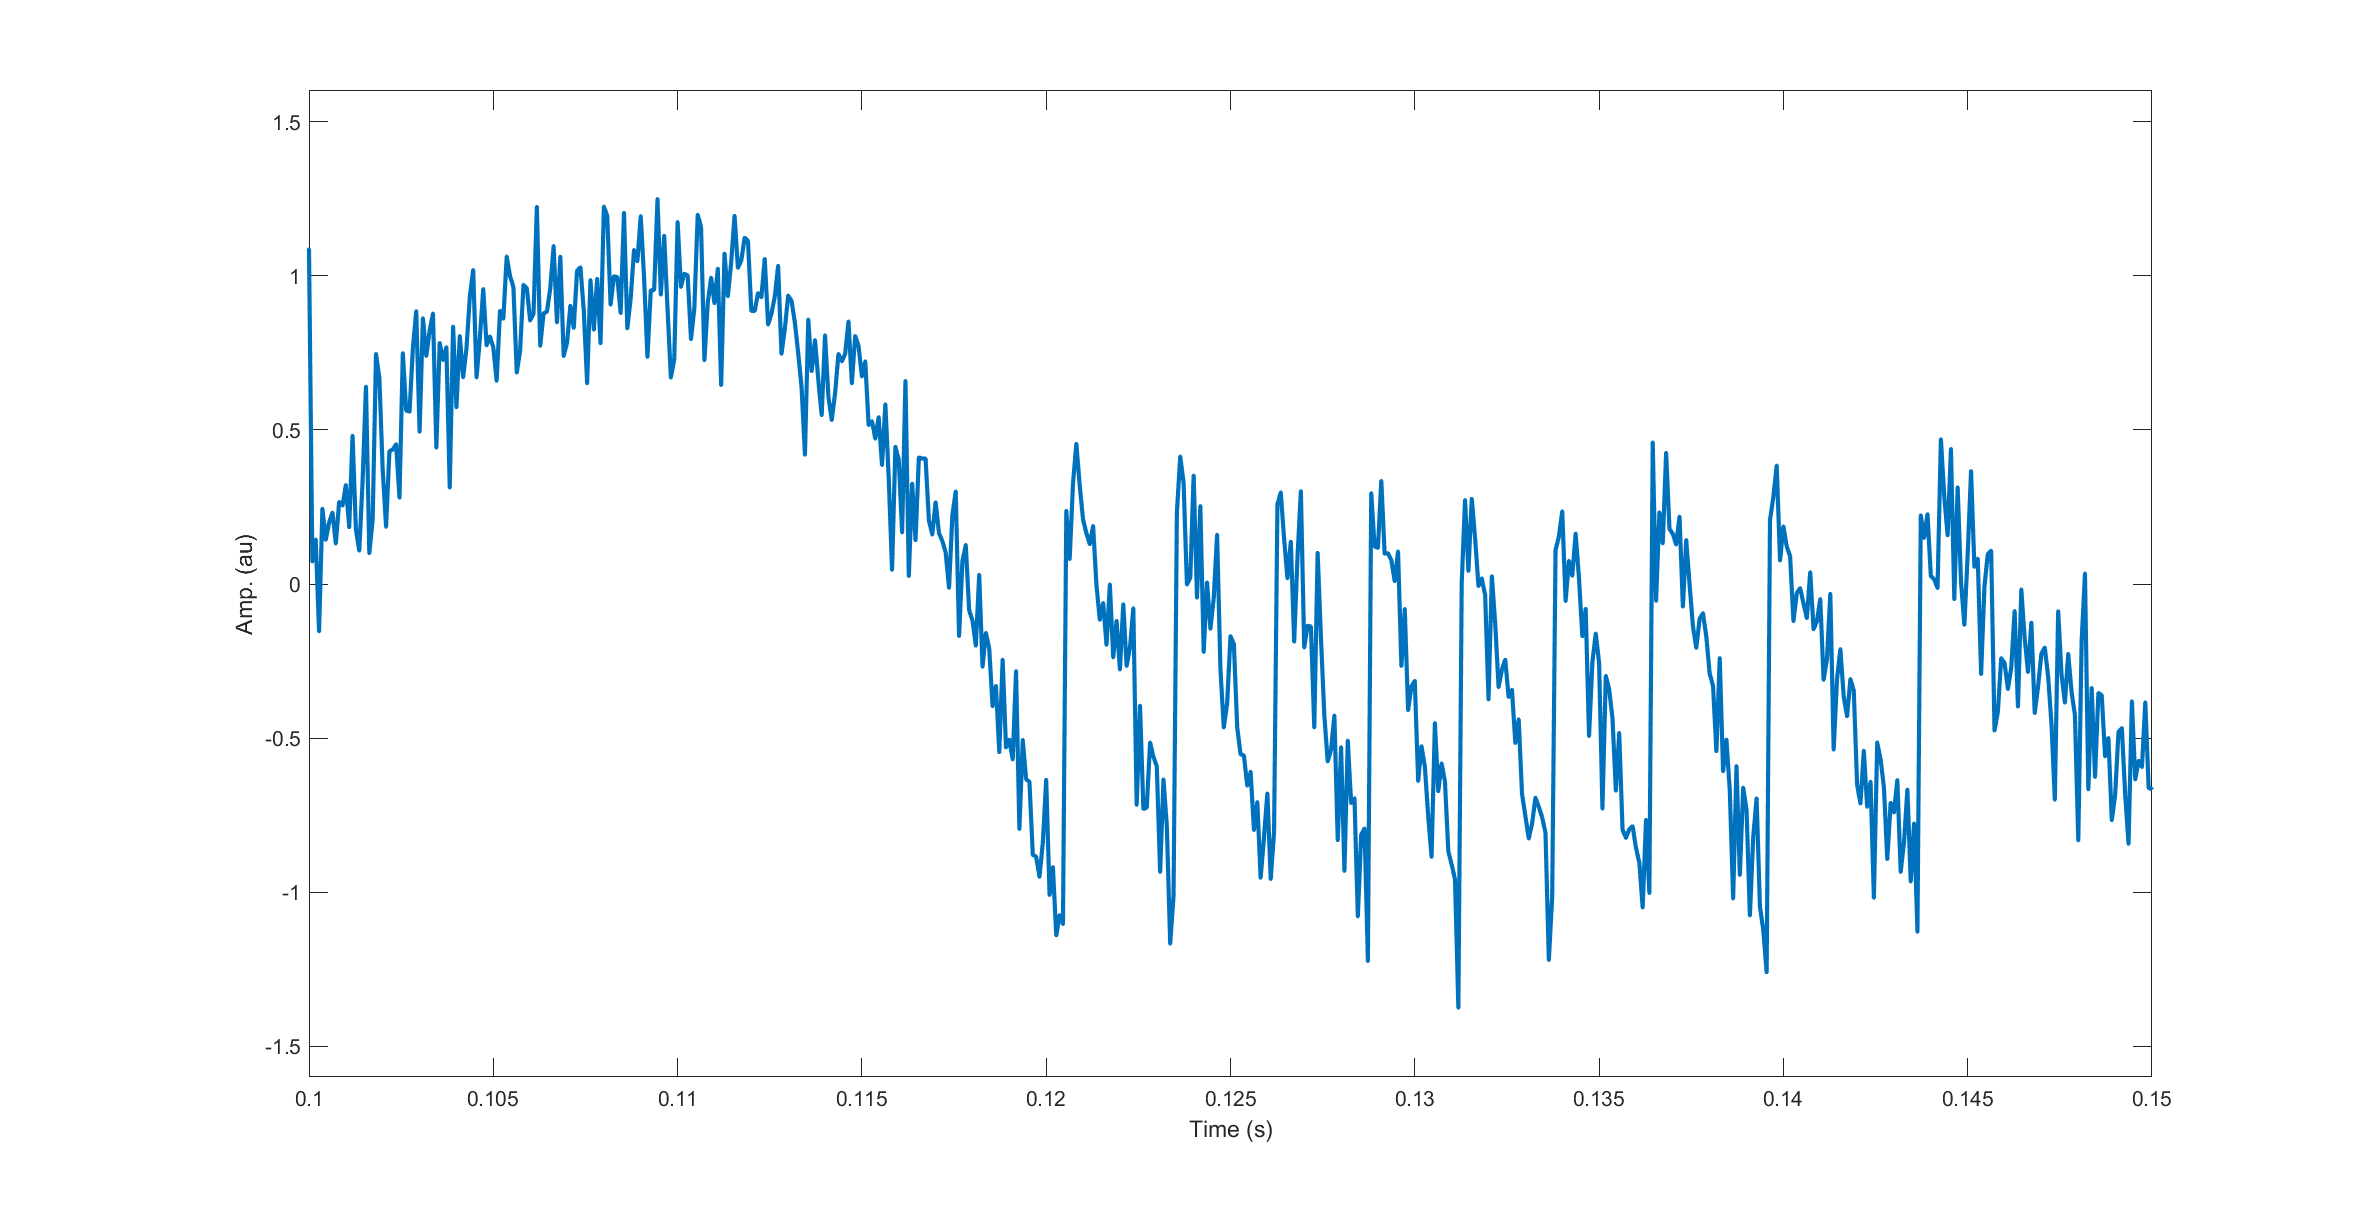negative_fringe: (1907, 432, 2083, 924), (1756, 454, 1897, 978), (1052, 434, 1154, 934), (1160, 441, 1258, 948), (1645, 415, 1748, 884), (1353, 465, 1446, 968), (1444, 485, 1532, 1012), (1540, 492, 1636, 965), (1258, 471, 1356, 897)
